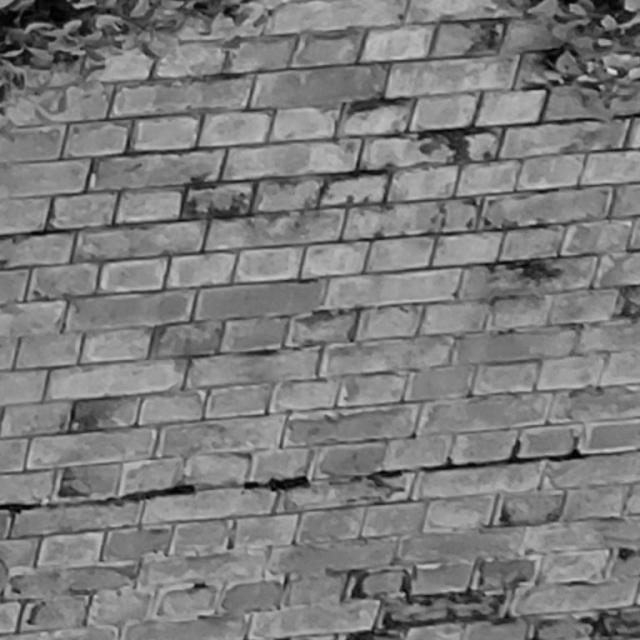crack: (1, 437, 586, 513)
